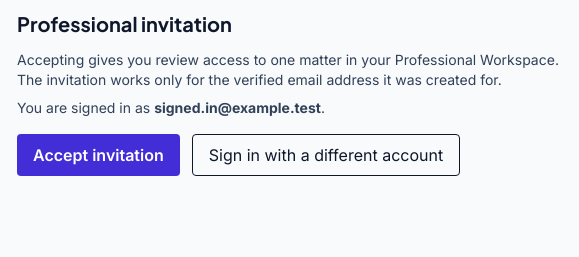
Stage 10 slice 8: AcceptInvitation › 429 shows the limited message
Click the button "Accept invitation": [98, 155] box [17,134,180,176]
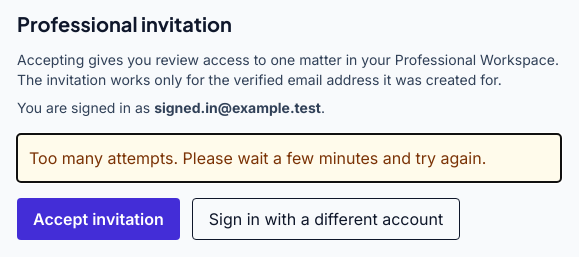
Expected: the message reads "Too many attempts. Please wait a few minutes and try again.", [29,148,486,168]
